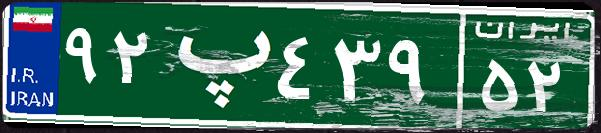2: (110, 28, 158, 105), (525, 38, 570, 115)
3: (330, 28, 385, 110)
4: (273, 28, 330, 110)
5: (475, 38, 525, 113)
9: (385, 28, 445, 110), (57, 26, 110, 107)
پ: (158, 15, 273, 115)
